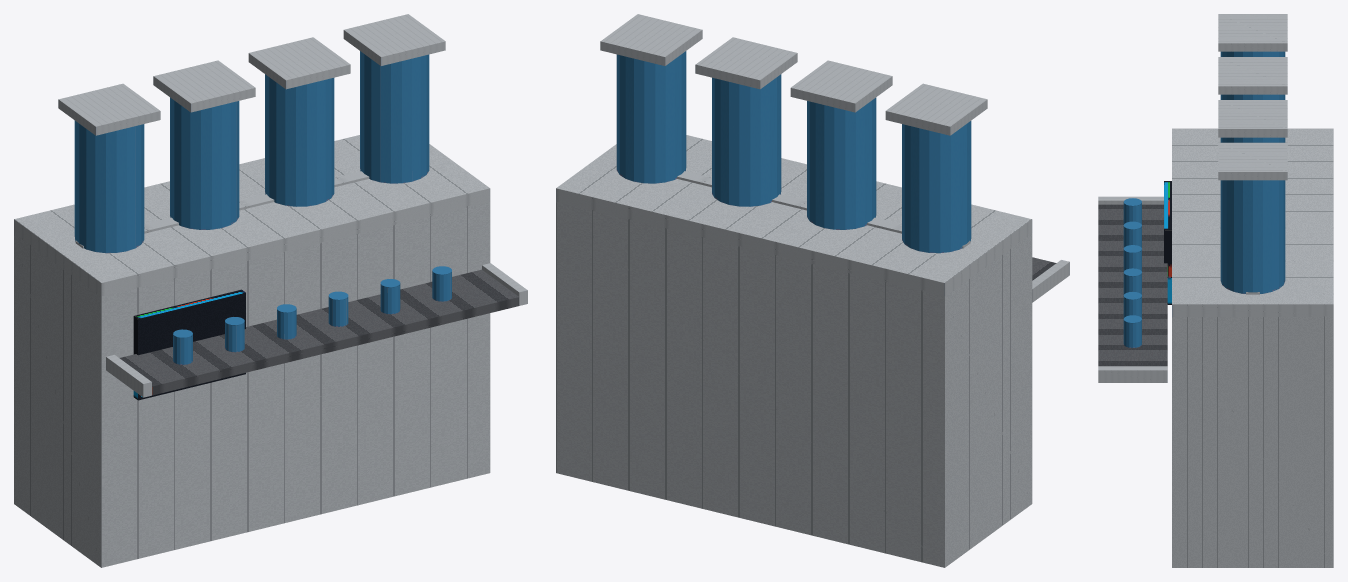
File: prop_filling_machine.glb
3 views of the same model, side by side, from view 1: azimuth 30°, elevation 25°; view 2: azimuth 150°, elevation 25°; view 3: azimuth 270°, elevation 25° (orthographic). The views are drawn at different scales.
Visible parts, largest first — view 1: Prop_Filling_Machine; view 2: Prop_Filling_Machine; view 3: Prop_Filling_Machine.
Part boxes in pixels (bbox=[...]): Prop_Filling_Machine: bbox=[14, 14, 527, 567]; Prop_Filling_Machine: bbox=[556, 14, 1069, 567]; Prop_Filling_Machine: bbox=[1098, 14, 1333, 567].
Bounding box in the file's own units: 1.8 × 1.85 × 1.02.
Materials: 1 (1 with a texture image).
